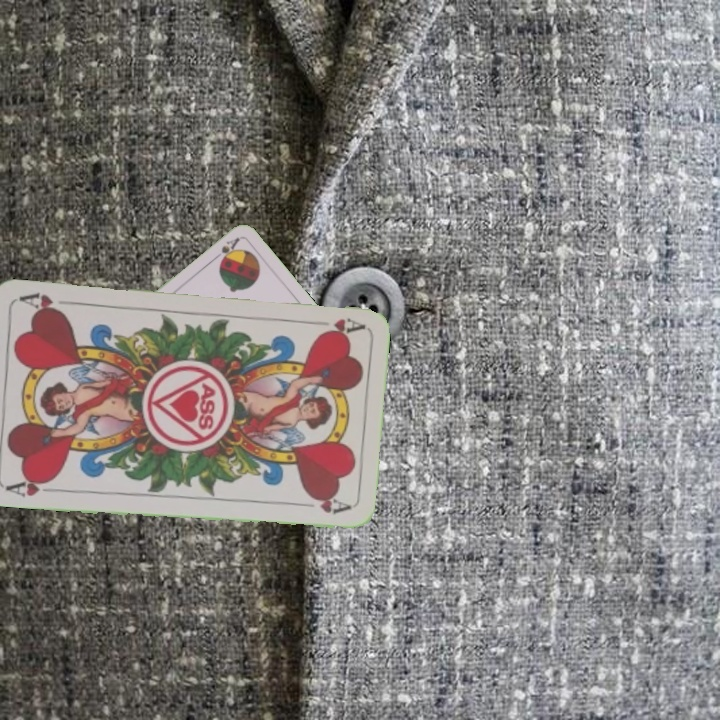HA: (1, 473, 61, 500), (305, 313, 365, 340)
SA: (207, 233, 242, 264)
